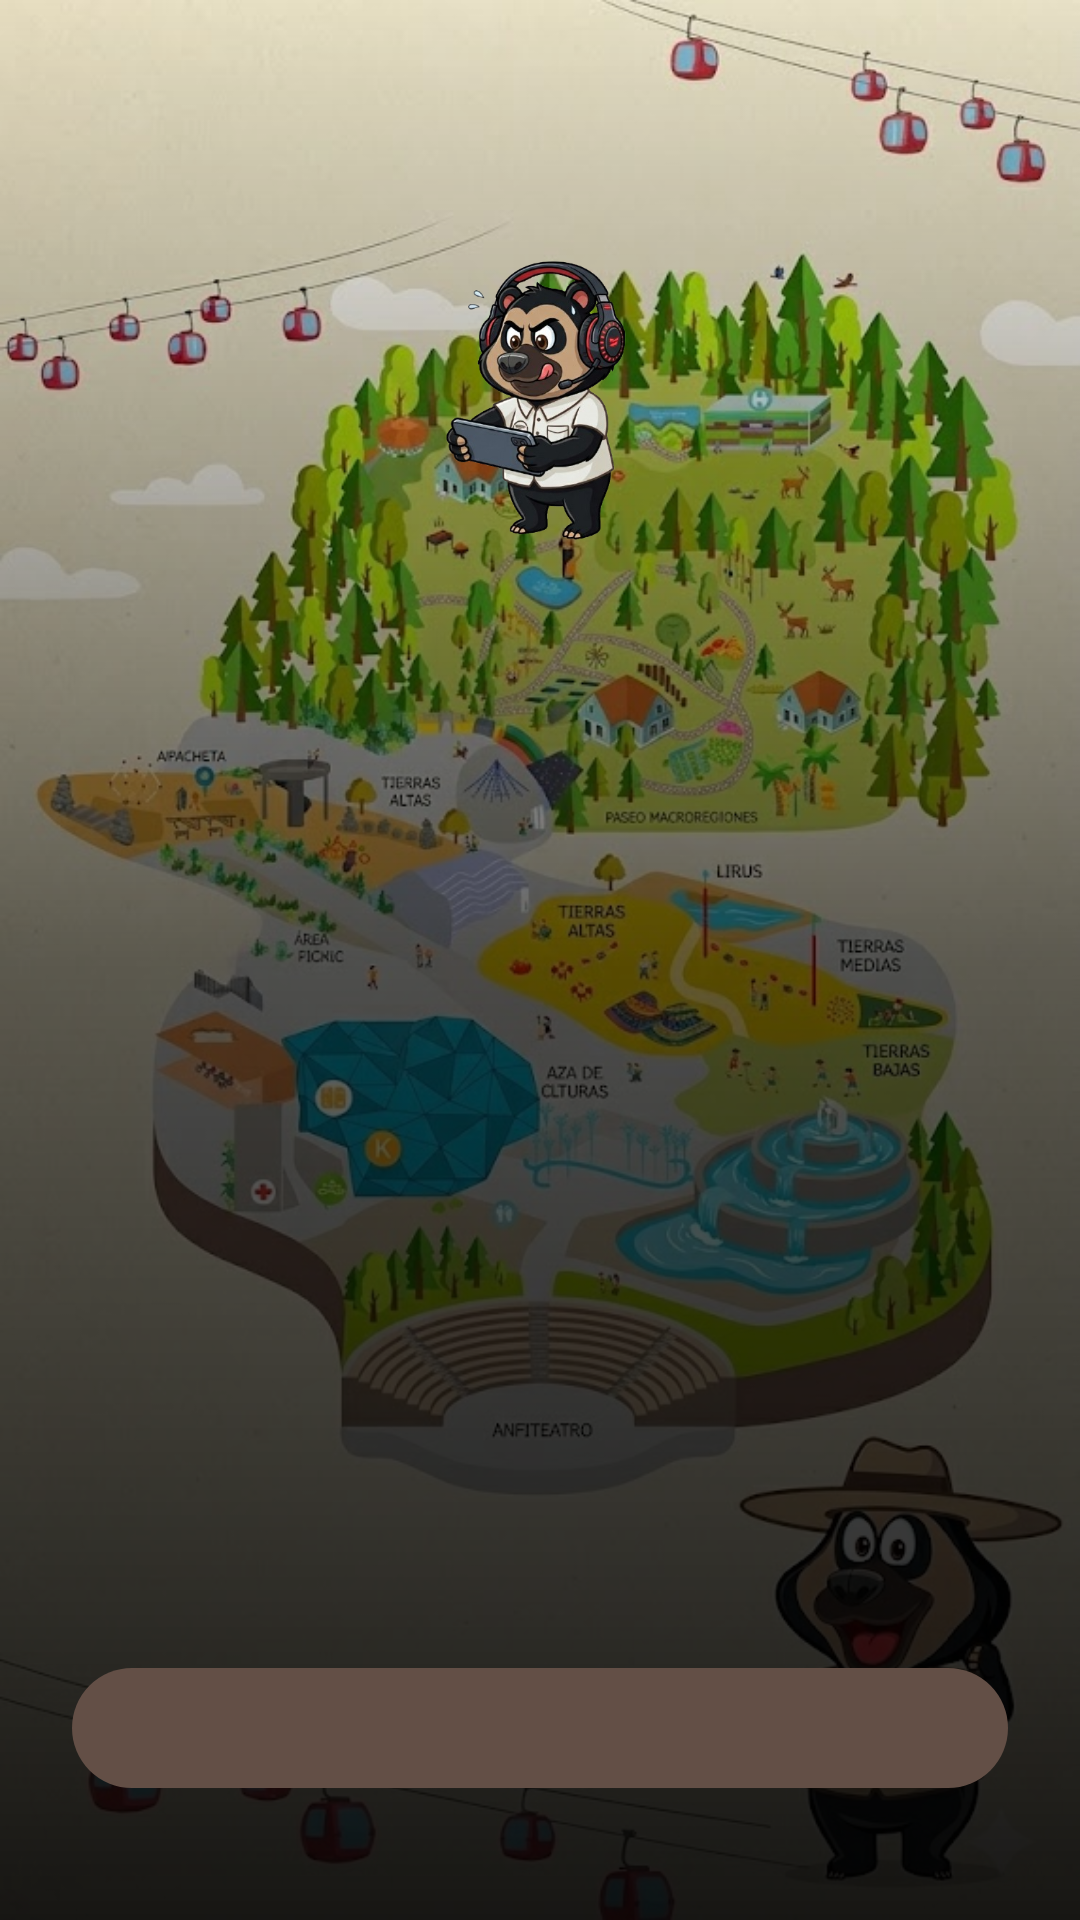

Icon click points for this 1080x1920 phone screenshot, format (x,y):
juku gamer: (540,396)
